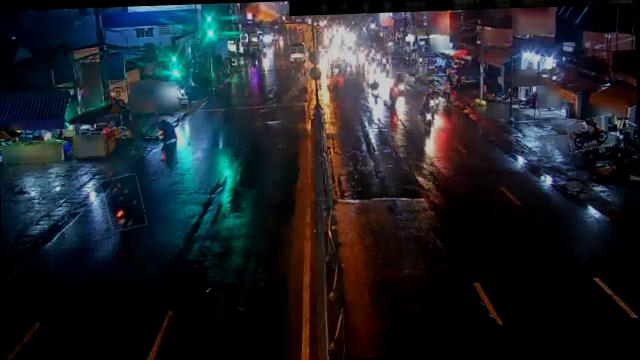Bike: (102, 175, 144, 231), (567, 115, 620, 150), (158, 118, 182, 142), (386, 80, 402, 112), (422, 103, 436, 133), (370, 79, 382, 107), (422, 91, 437, 113), (395, 72, 406, 94), (434, 89, 442, 113)
